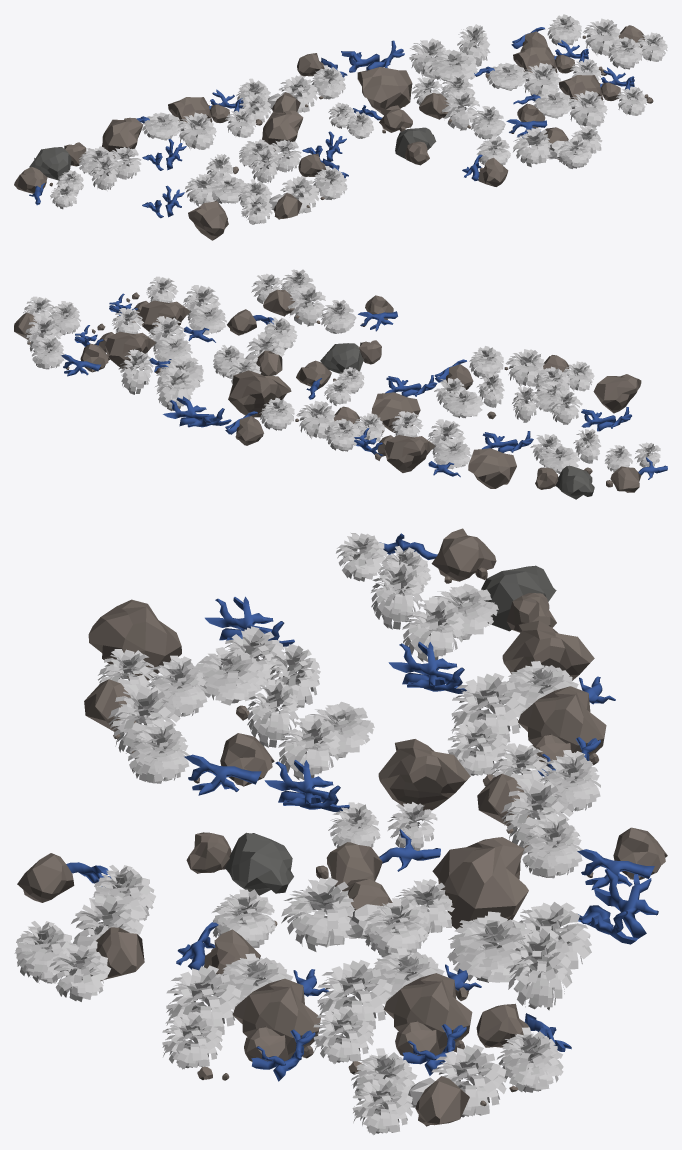
Rendered from Plants.fbx.
3 renders of one model, top to bottom at view 1: azimuth 30°, elevation 25°; view 2: azimuth 150°, elevation 25°; view 3: azimuth 270°, elevation 25°, orthographic. The views are drawn at different scales.
Parts seen in each view (by area): view 1: Plants; view 2: Plants; view 3: Plants.
Part boxes in pixels (box(x1,y1,x2,y2)): Plants: box(14, 14, 667, 240); Plants: box(14, 269, 667, 499); Plants: box(14, 528, 667, 1134).
Size of the model in its own units: 283 by 21.64 by 134.
